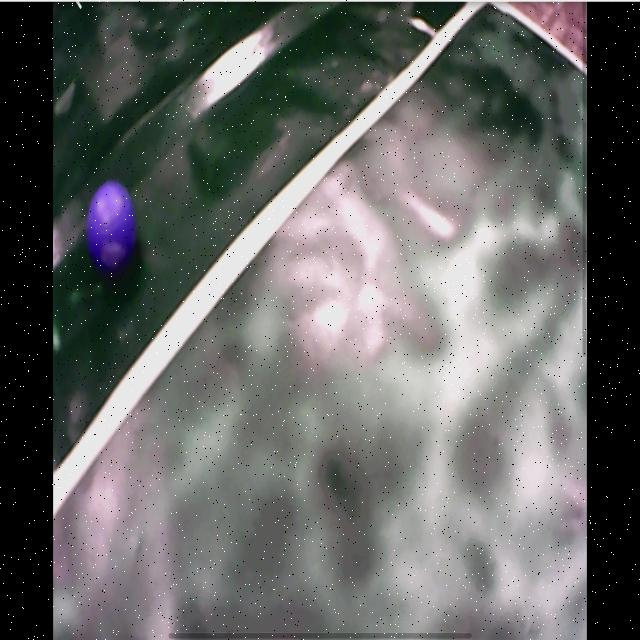ball: (87, 181, 137, 269)
